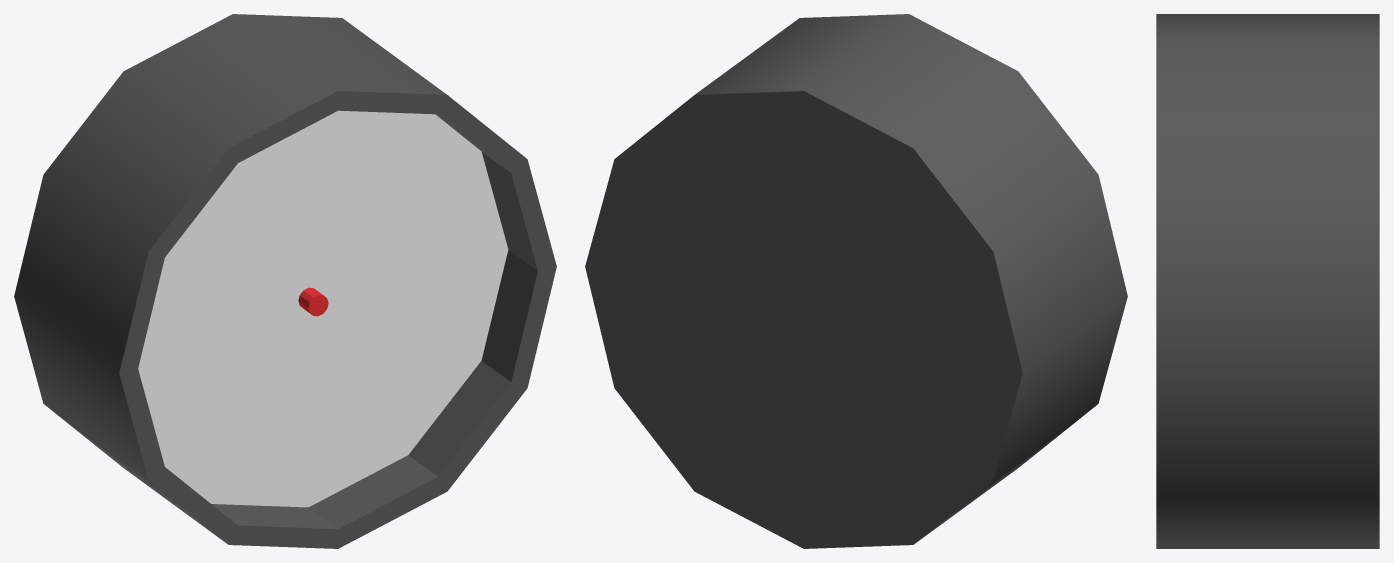
File: Itr_Obj_Alarmclcok_Body_03.FBX
The picture shows the model from 3 angles, left to right: view 1: azimuth 30°, elevation 25°; view 2: azimuth 150°, elevation 25°; view 3: azimuth 270°, elevation 25°; orthographic projection. The views are drawn at different scales.
Parts seen in each view (by area): view 1: Itr_Obj_Alarmclcok_Body_03; view 2: Itr_Obj_Alarmclcok_Body_03; view 3: Itr_Obj_Alarmclcok_Body_03.
Boxes of the visible parts, x1,y1,x2,y2 form: Itr_Obj_Alarmclcok_Body_03: (14, 14, 556, 548); Itr_Obj_Alarmclcok_Body_03: (585, 14, 1127, 548); Itr_Obj_Alarmclcok_Body_03: (1156, 14, 1379, 548).
Bounding box in the file's own units: 3.87 × 3.87 × 1.61.
